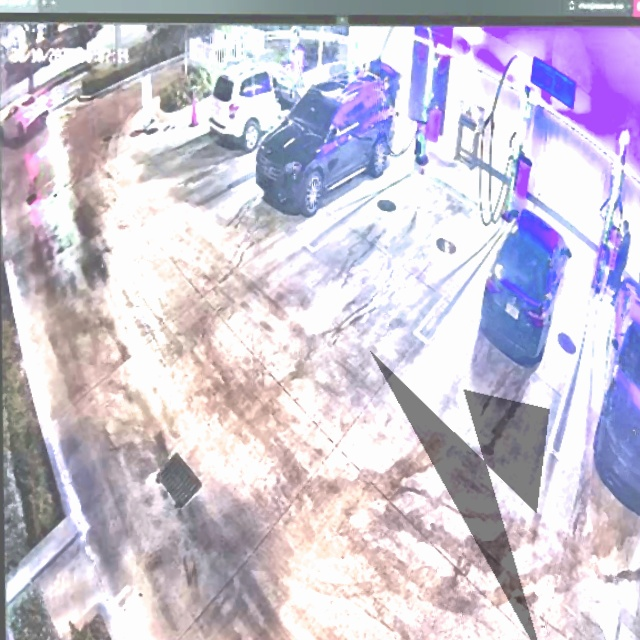Car: (255, 65, 399, 215), (480, 211, 573, 366), (209, 51, 316, 154)
